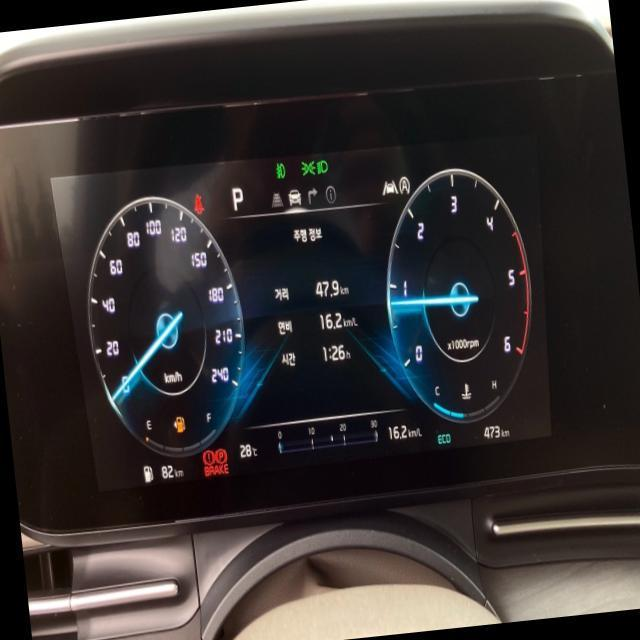FrontFogLight: (273, 160, 285, 179)
LaneCenteringOff: (380, 177, 398, 196)
Low beam: (314, 158, 328, 174)
Low fuel level: (174, 413, 185, 432)
SideLamp: (298, 157, 316, 176)
